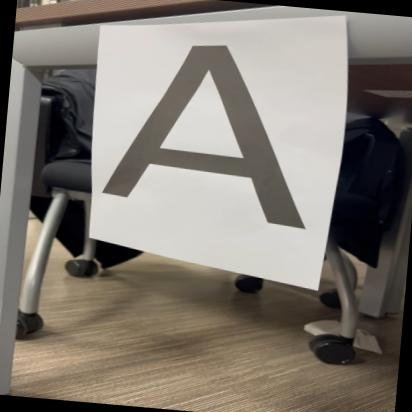seat: (97, 27, 322, 234)
